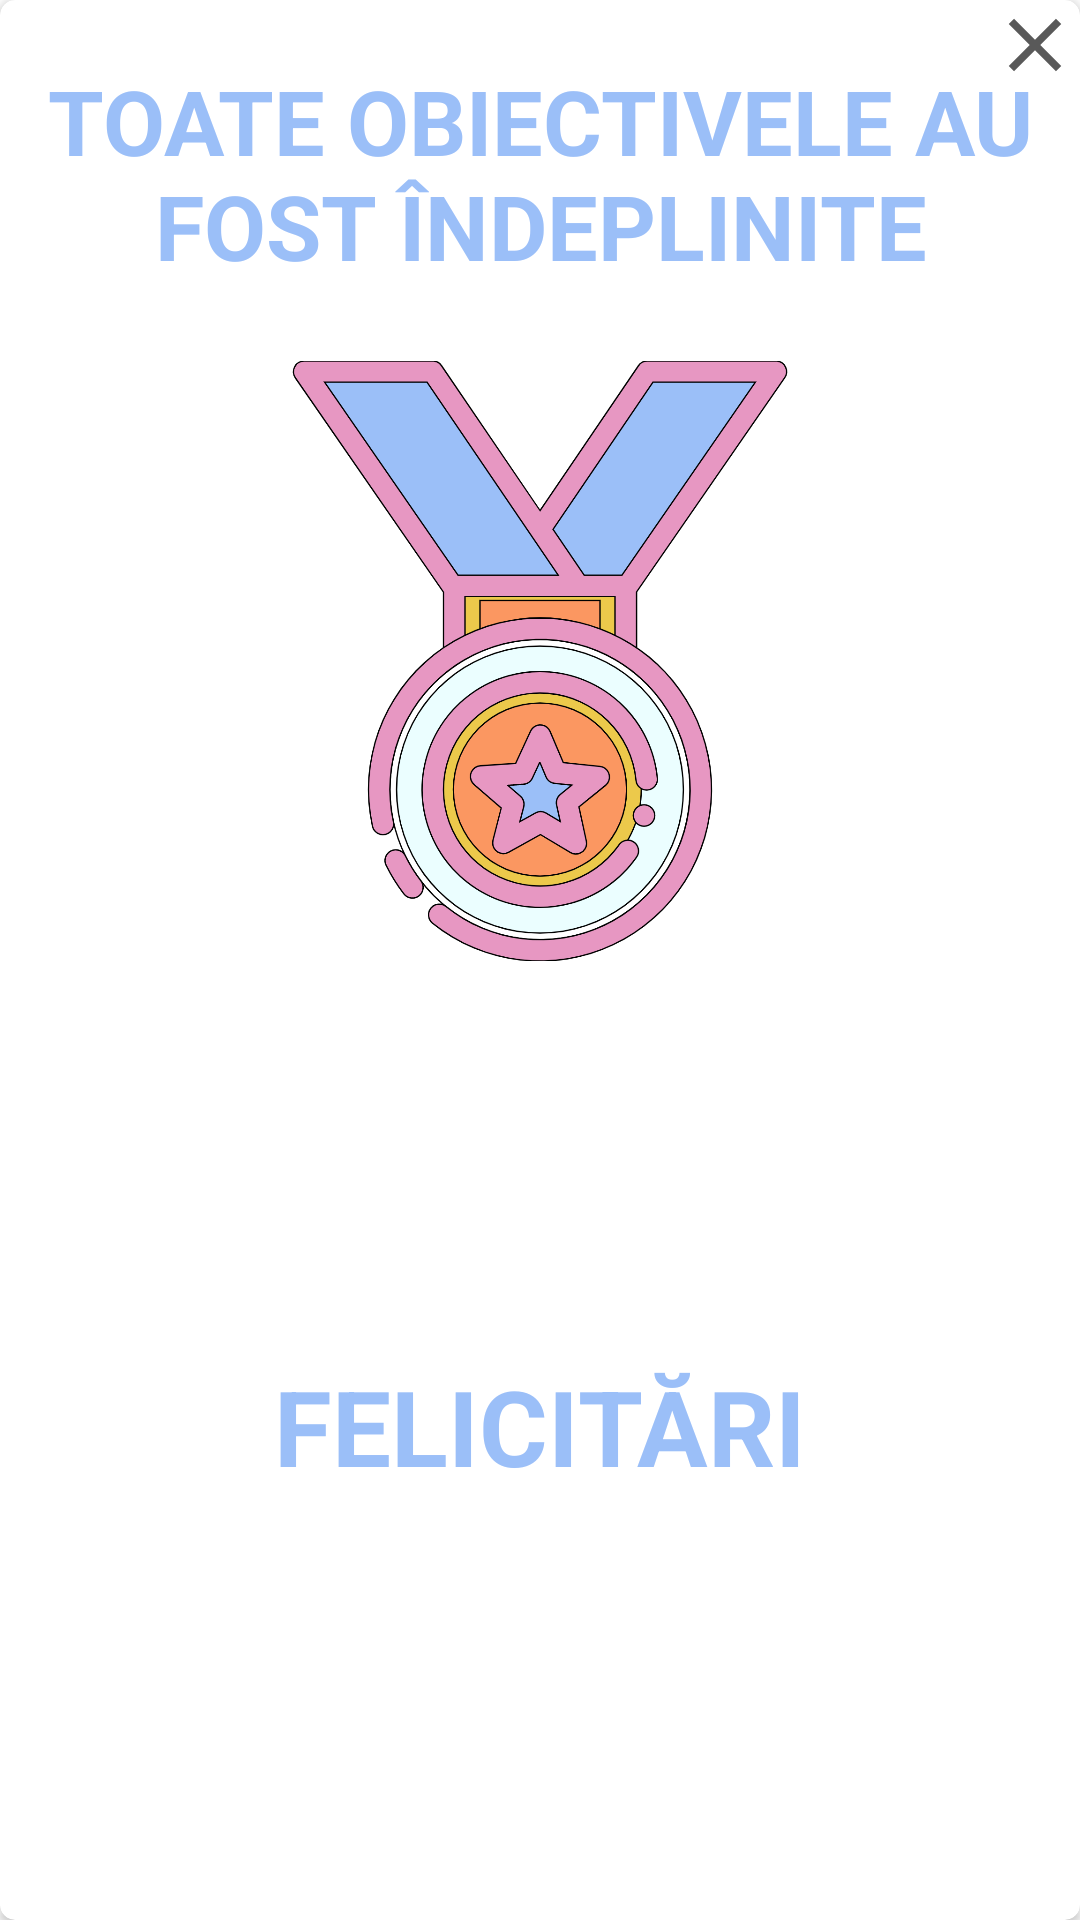

Icon click points for this 1080×1920 phone screenshot, format point (x, y):
close: point (1044, 40)
